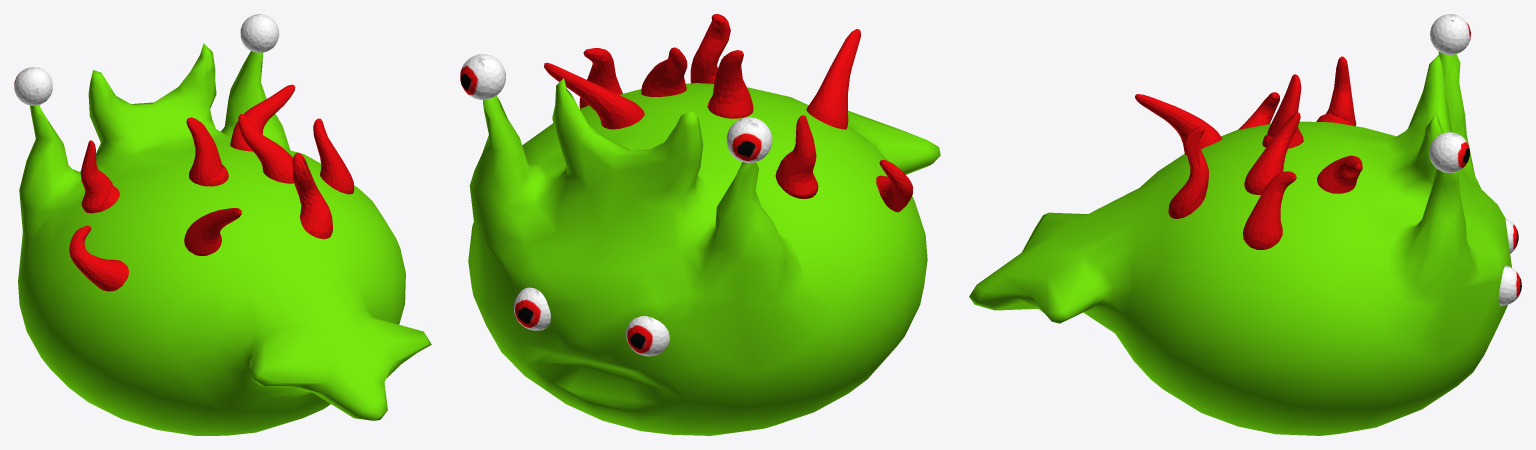
The model's file is slime.fbx.
The picture shows the model from 3 angles, left to right: view 1: azimuth 30°, elevation 25°; view 2: azimuth 150°, elevation 25°; view 3: azimuth 270°, elevation 25°; orthographic projection. The views are drawn at different scales.
Visible parts, largest first — view 1: Body, SpikeBump.7, SpikeBump.6, SpikeBump.2, SpikeBump.8, SpikeBump, SpikeBump.5, SpikeBump.4, SpikeBump.3, StalkEye1, StalkEye2; view 2: Body, SpikeBump.5, SpikeBump.3, SpikeBump, SpikeBump.2, StalkEye2, StalkEye1, SpikeBump.7, SpikeBump.8, MainEye2, SpikeBump.6, MainEye1 (+1 smaller); view 3: Body, SpikeBump.4, SpikeBump.7, SpikeBump.8, SpikeBump.5, SpikeBump, StalkEye2, StalkEye1, SpikeBump.3, SpikeBump.2, MainEye1, SpikeBump.6.
Boxes of the visible parts, <box> form: Body: <box>18,43,431,435</box>; SpikeBump.7: <box>292,152,332,239</box>; SpikeBump.6: <box>69,225,128,291</box>; SpikeBump.2: <box>186,117,228,186</box>; SpikeBump.8: <box>238,114,293,183</box>; SpikeBump: <box>80,140,119,213</box>; SpikeBump.5: <box>184,208,241,255</box>; SpikeBump.4: <box>313,118,354,194</box>; SpikeBump.3: <box>230,84,295,151</box>; StalkEye1: <box>240,14,279,52</box>; StalkEye2: <box>14,67,52,105</box>; Body: <box>468,78,940,435</box>; SpikeBump.5: <box>806,29,860,129</box>; SpikeBump.3: <box>544,62,644,129</box>; SpikeBump: <box>775,115,818,198</box>; SpikeBump.2: <box>707,50,753,118</box>; StalkEye2: <box>726,117,772,163</box>; StalkEye1: <box>460,54,505,99</box>; SpikeBump.7: <box>690,14,730,83</box>; SpikeBump.8: <box>641,47,687,96</box>; MainEye2: <box>626,316,669,356</box>; SpikeBump.6: <box>876,160,913,212</box>; MainEye1: <box>514,287,550,330</box>; Body: <box>969,51,1511,435</box>; SpikeBump.4: <box>1243,171,1296,249</box>; SpikeBump.7: <box>1168,126,1208,218</box>; SpikeBump.8: <box>1244,112,1300,195</box>; SpikeBump.5: <box>1135,94,1222,154</box>; SpikeBump: <box>1316,56,1356,126</box>; StalkEye2: <box>1430,14,1470,54</box>; StalkEye1: <box>1429,132,1469,172</box>; SpikeBump.3: <box>1317,155,1362,193</box>; SpikeBump.2: <box>1262,74,1303,148</box>; MainEye1: <box>1498,265,1521,305</box>; SpikeBump.6: <box>1238,92,1279,129</box>.
Size of the model in its own units: 200 by 182 by 271.
